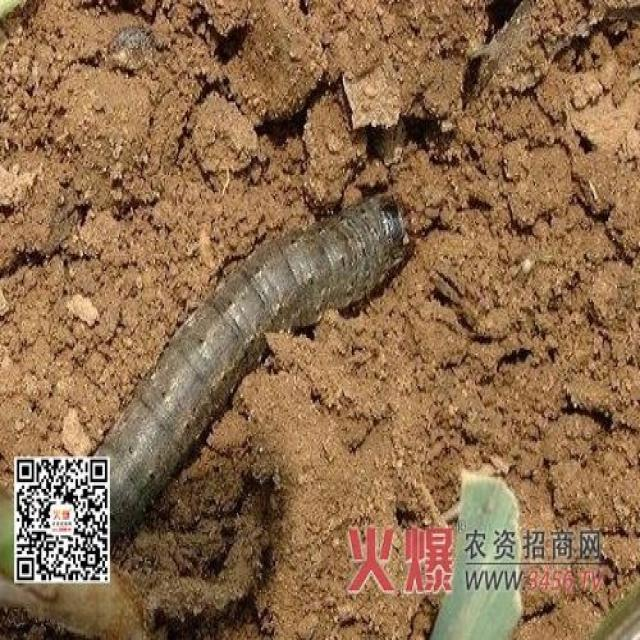black cutworm: (121, 188, 422, 490)
